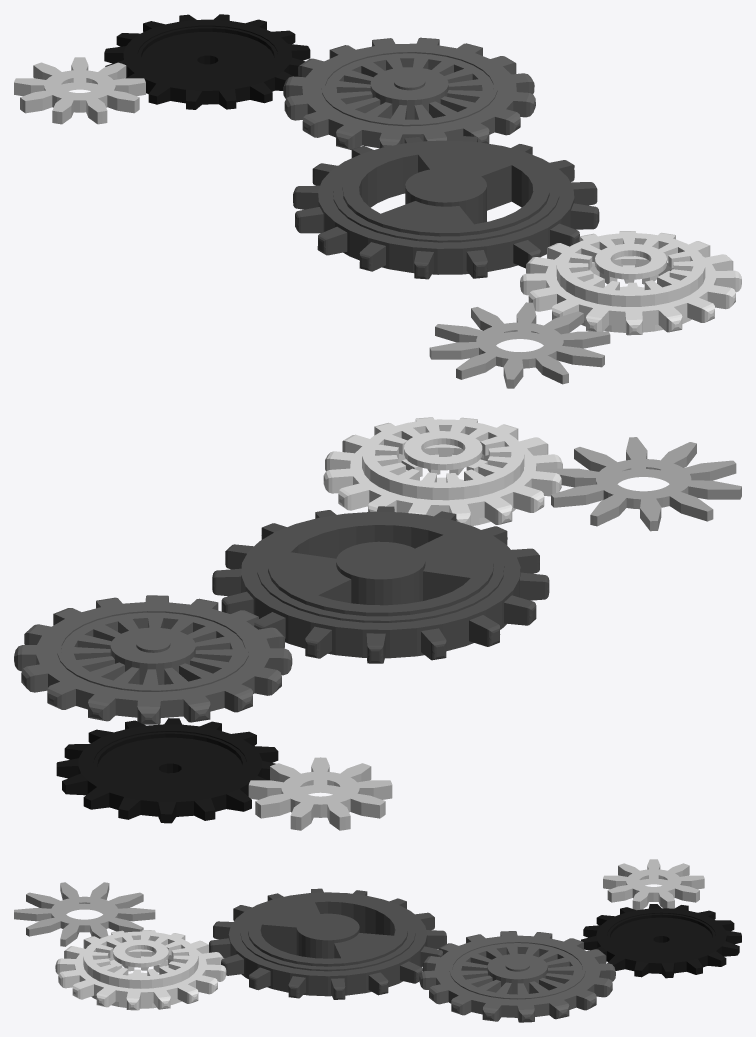
The model's file is engrenage.fbx.
3 renders of one model, top to bottom at view 1: azimuth 30°, elevation 25°; view 2: azimuth 150°, elevation 25°; view 3: azimuth 270°, elevation 25°, orthographic. The views are drawn at different scales.
Visible parts, largest first — view 1: Engreage4, Engreage3, Engreage5, Engreage2, Engreage6, Engreage1; view 2: Engreage4, Engreage3, Engreage5, Engreage2, Engreage6, Engreage1; view 3: Engreage4, Engreage3, Engreage5, Engreage2, Engreage6, Engreage1.
Part boxes in pixels (box(x1,y1,x2,y2)): Engreage4: box(293, 136, 599, 279); Engreage3: box(283, 37, 535, 149); Engreage5: box(520, 231, 741, 335); Engreage2: box(104, 14, 310, 109); Engreage6: box(429, 302, 610, 388); Engreage1: box(14, 57, 145, 124); Engreage4: box(212, 506, 549, 663); Engreage3: box(14, 595, 292, 724); Engreage5: box(323, 417, 562, 525); Engreage2: box(56, 718, 278, 823); Engreage6: box(545, 437, 741, 531); Engreage1: box(248, 757, 392, 830); Engreage4: box(209, 888, 446, 999); Engreage3: box(419, 931, 615, 1022); Engreage5: box(55, 930, 226, 1010); Engreage2: box(581, 904, 741, 978); Engreage6: box(14, 882, 155, 946); Engreage1: box(603, 859, 704, 910).
Size of the model in its own units: 842 by 95.92 by 1678.
1 material, 1 textured.
